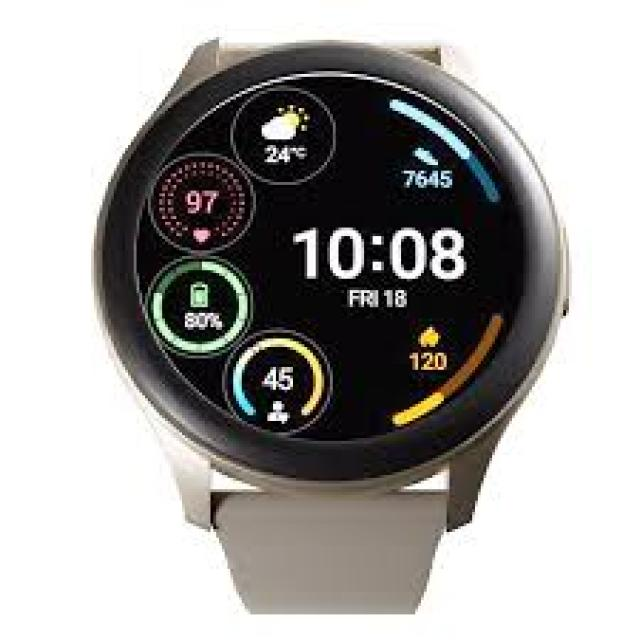objects: (97, 32, 566, 612)
